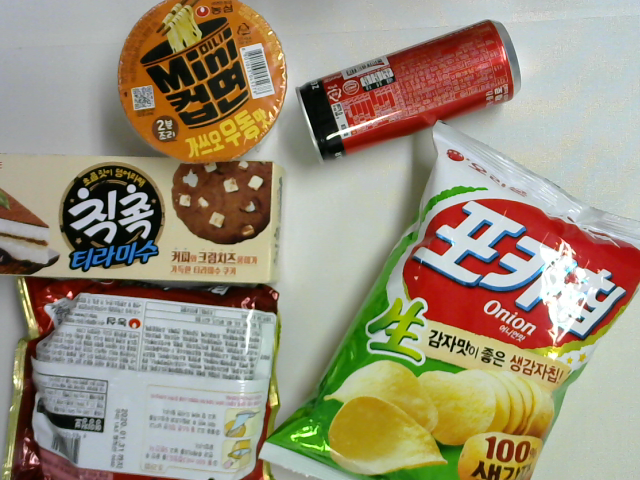Chicchok_Tiramisu: (1, 148, 289, 289)
Coca_Cola_Zero_Can_250ml: (294, 17, 526, 170)
Pocachip_Onion: (256, 119, 640, 480)
Sichuan_Chapaghetti: (1, 277, 283, 480)
Udongmini: (115, 1, 287, 165)
